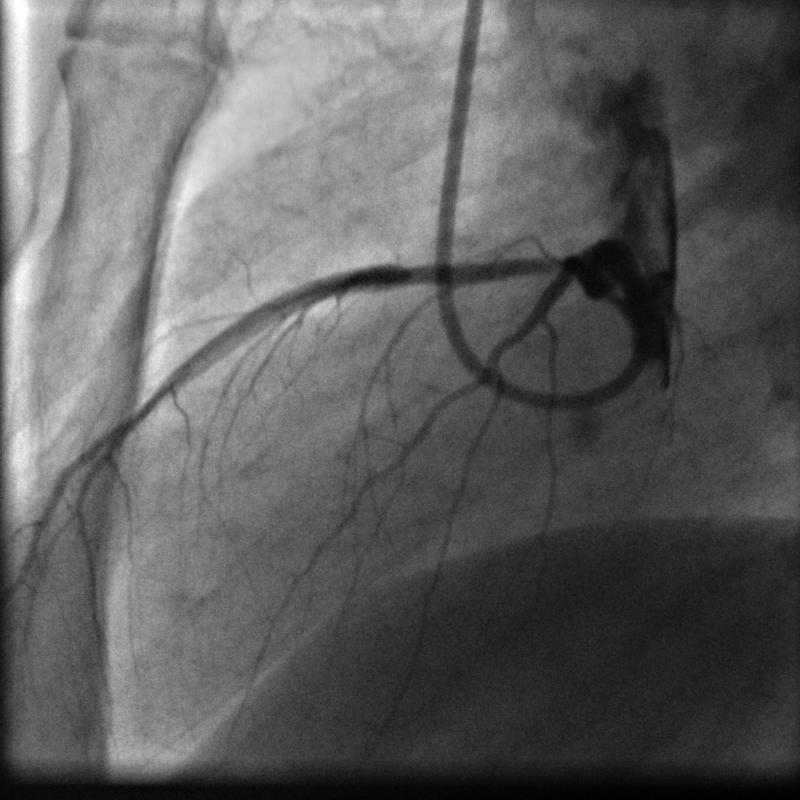Stenosis: (397, 259, 426, 292)
